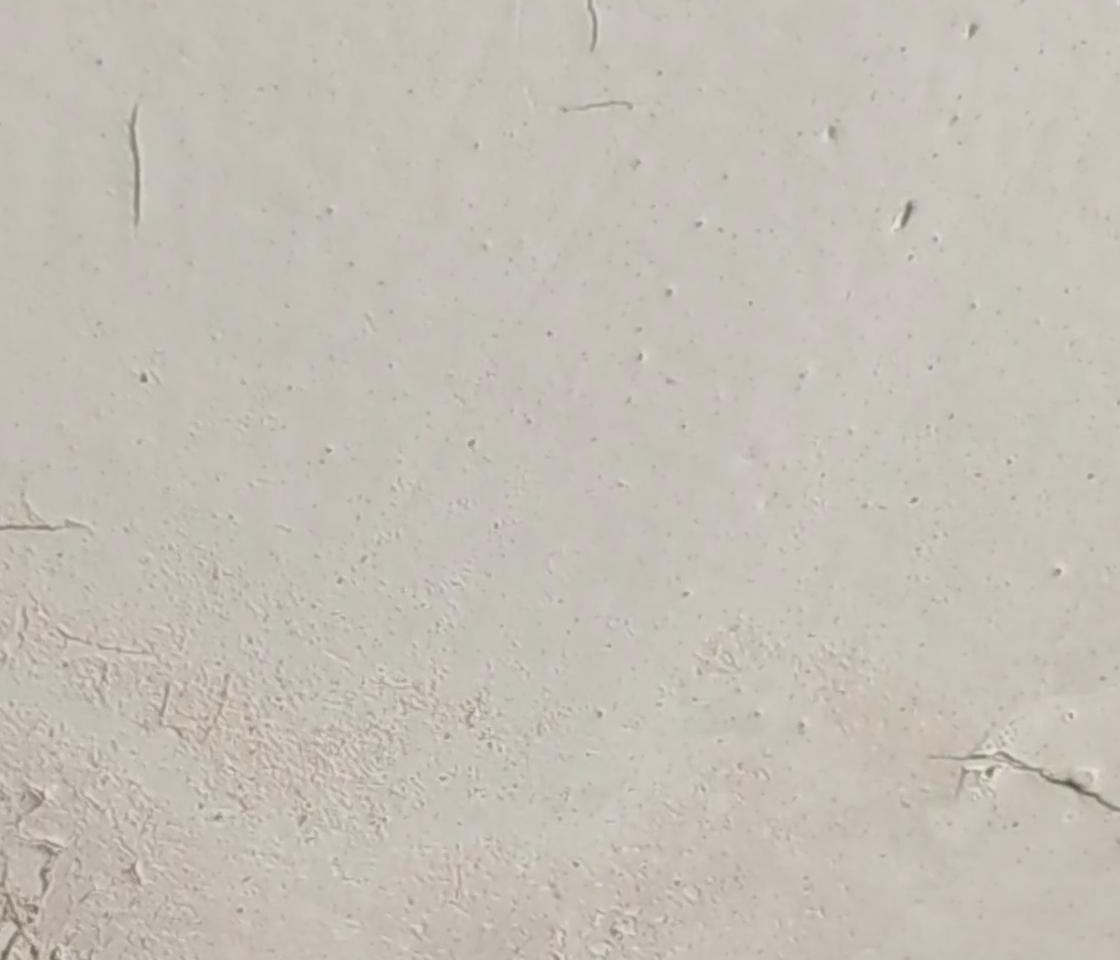scratch: (114, 103, 157, 231), (1, 514, 96, 543), (550, 99, 643, 115), (581, 1, 604, 49)
